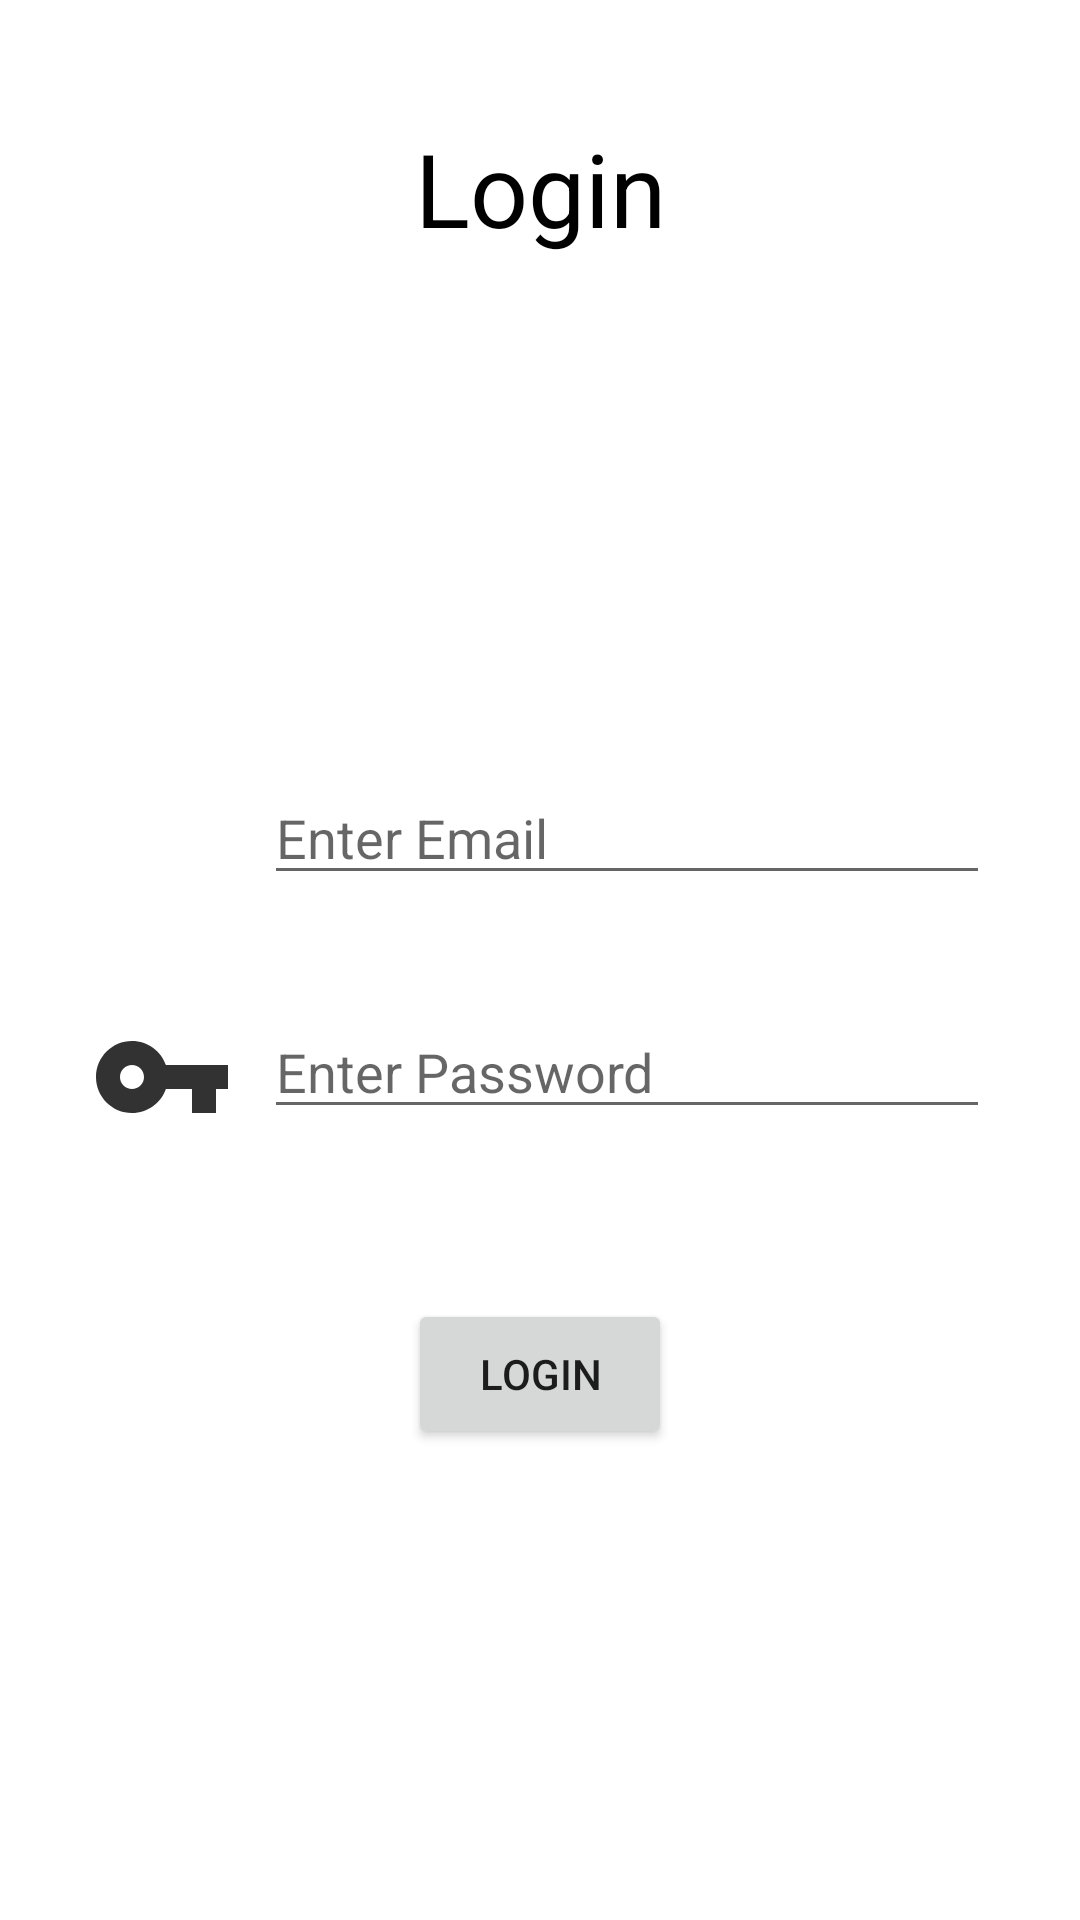

Icons on this 1080x1920 Android screen, each with the point to tap as (x,y):
smdprojectkey: (162,1077)
